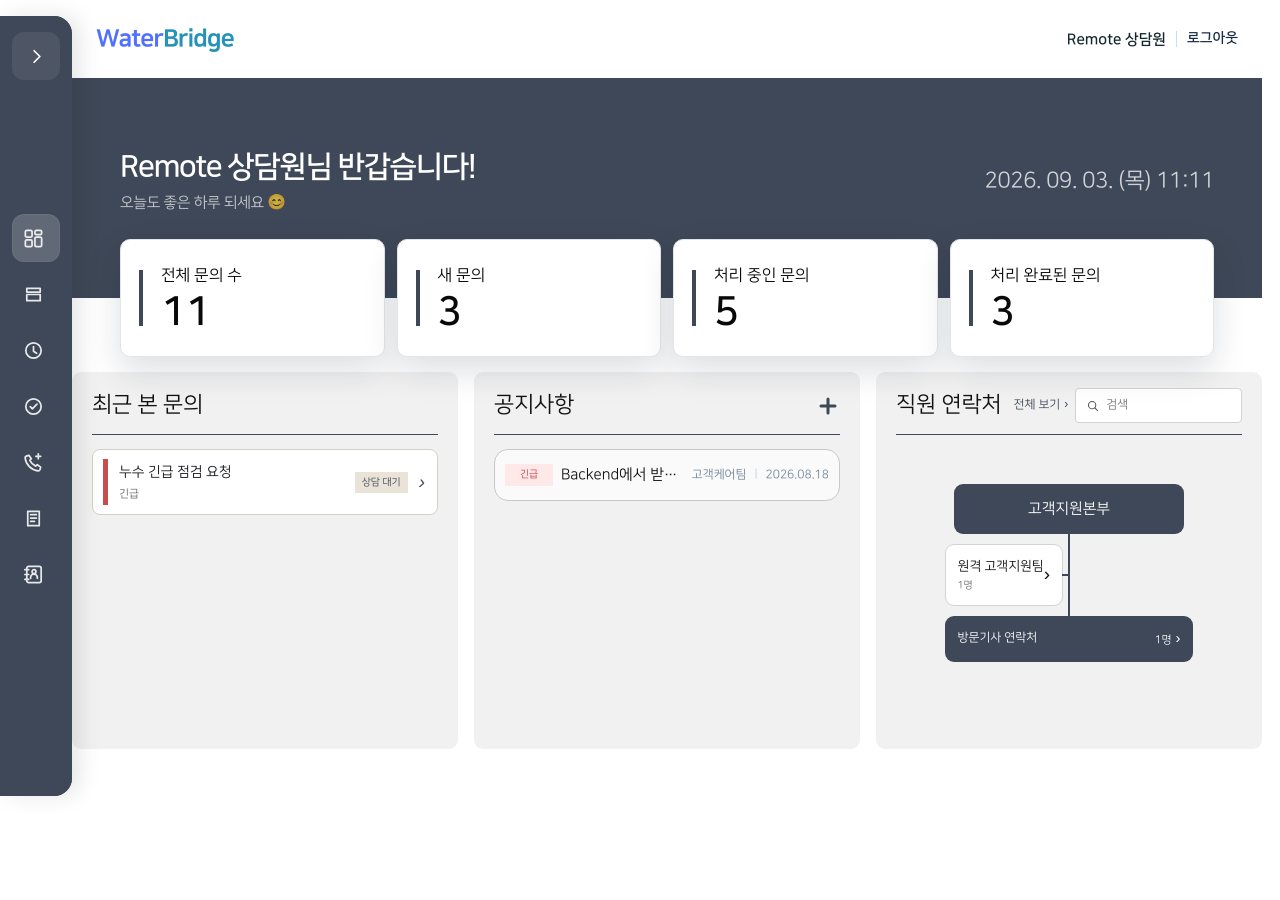
Test: 상담사 Remote 첫 상세 패널 경로 › 문의 목록 overview 집계로 업무 요약·사이드바 숫자를 통일하고 Dashboard 부가 기능은 유지한다
Expected: the heading "Remote 상담원님 반갑습니다!" is shown, left=120, top=150, right=475, bottom=184
Expected: the button named "전체 문의 수11" is enabled, left=120, top=239, right=384, bottom=357
In the search field named "직원 연락처 검색": coordinates (1169, 406) left=1106, top=396, right=1231, bottom=415, type "원격 상담사"
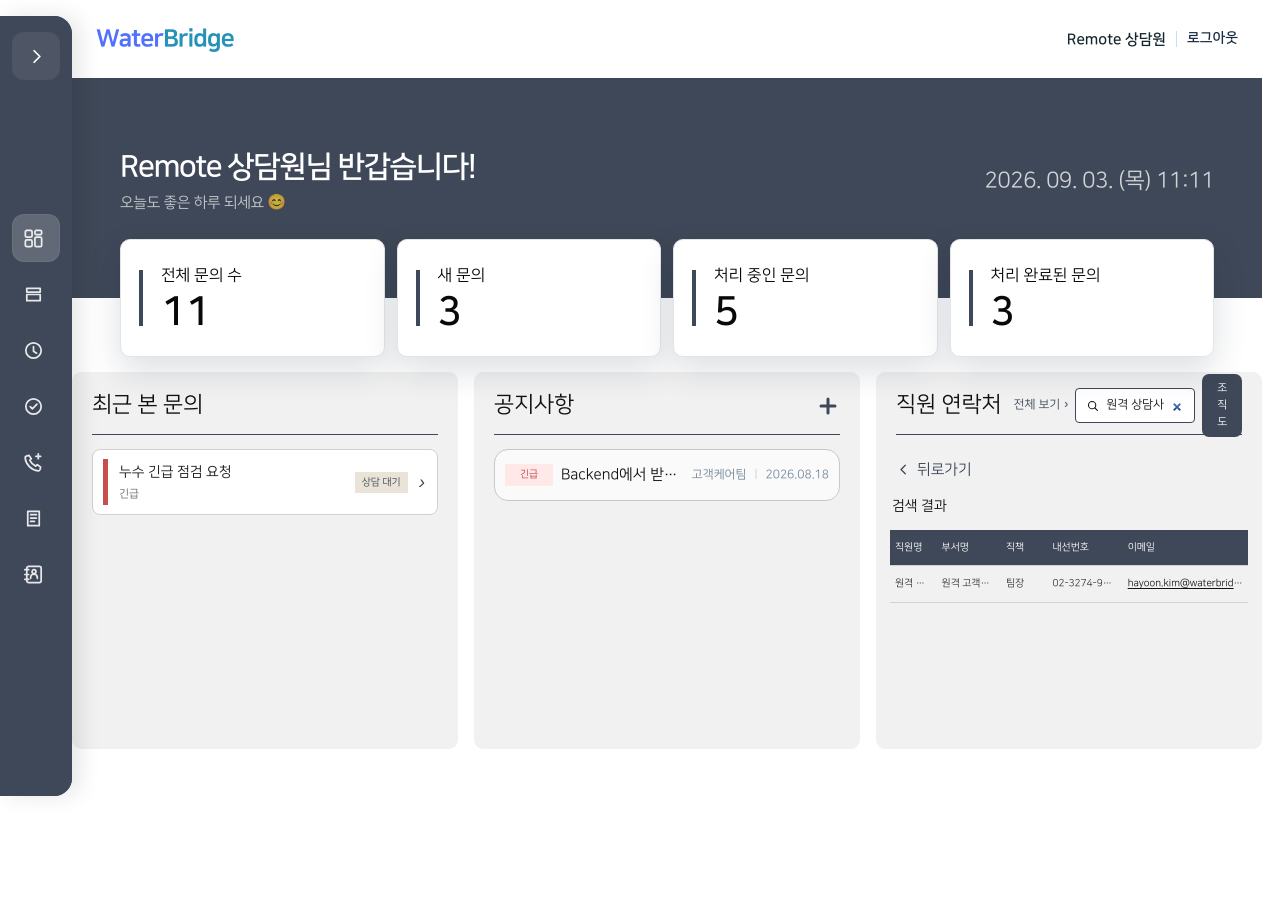
Result: the cell "원격 상담사" is shown at left=890, top=566, right=936, bottom=602
Clear the search field named "직원 연락처 검색": coordinates (1145, 406) left=1106, top=396, right=1184, bottom=415
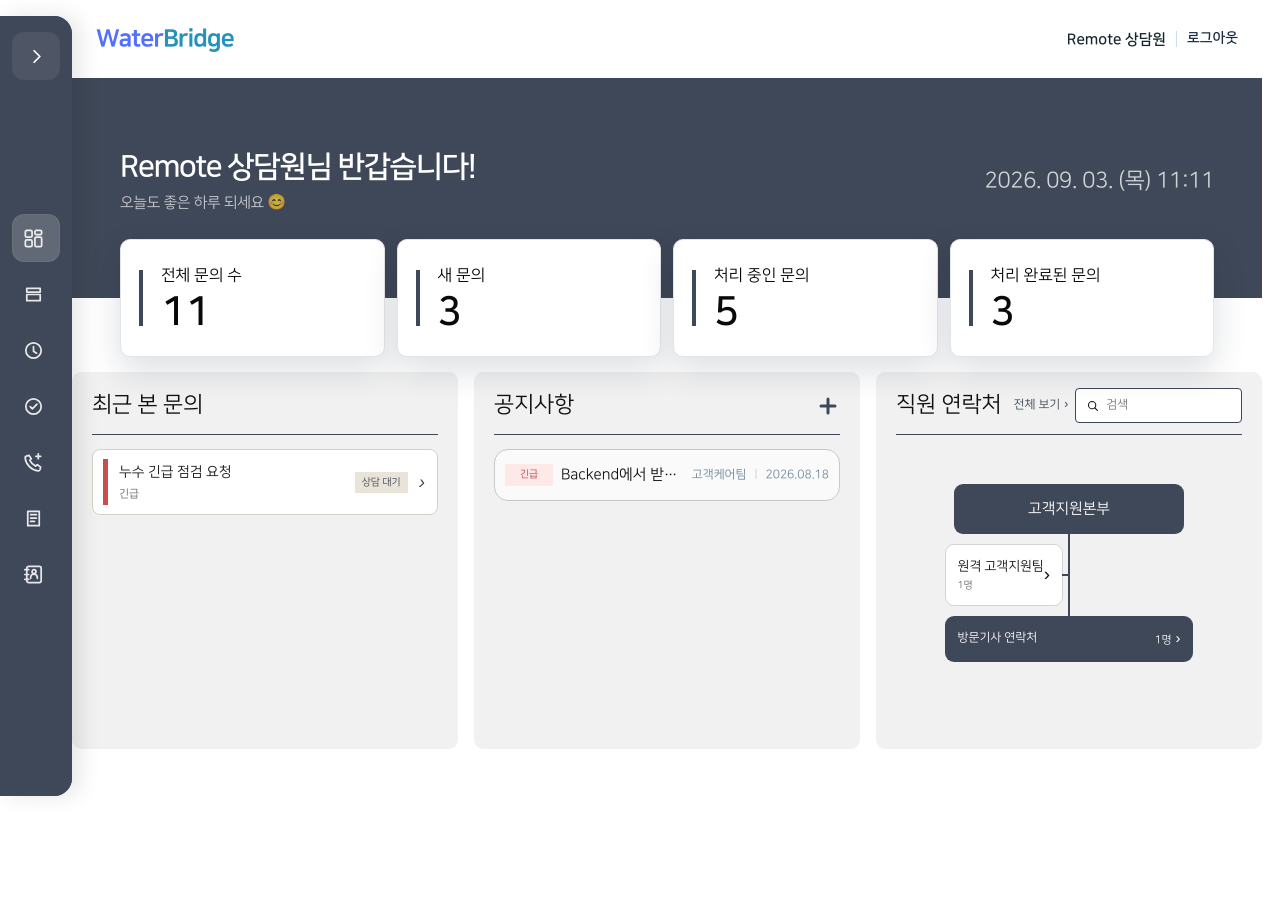
Click the button "방문기사 연락처 1명›": coordinates (1069, 639) left=945, top=616, right=1193, bottom=662
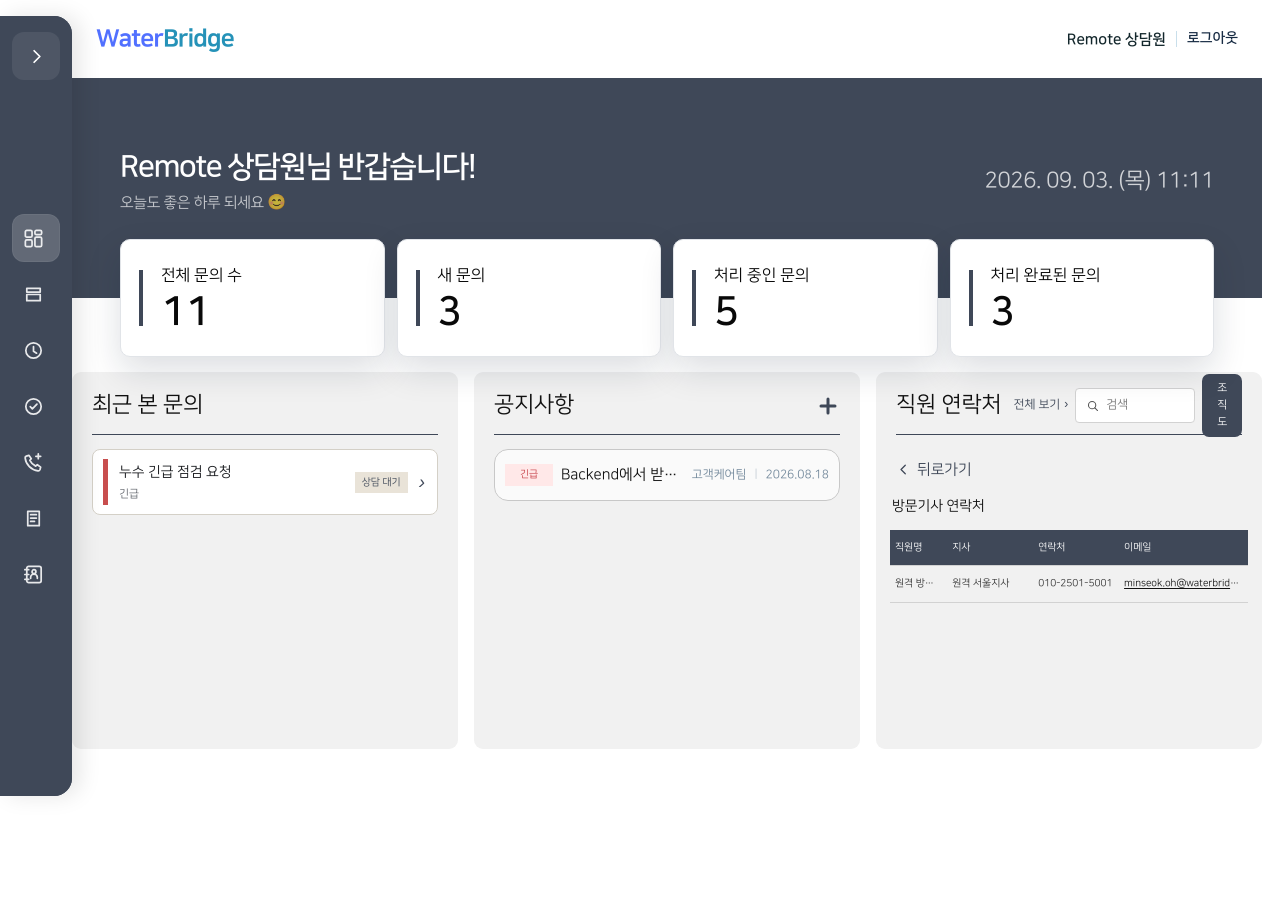
Result: the cell "원격 방문기사" is shown at left=890, top=566, right=947, bottom=602
